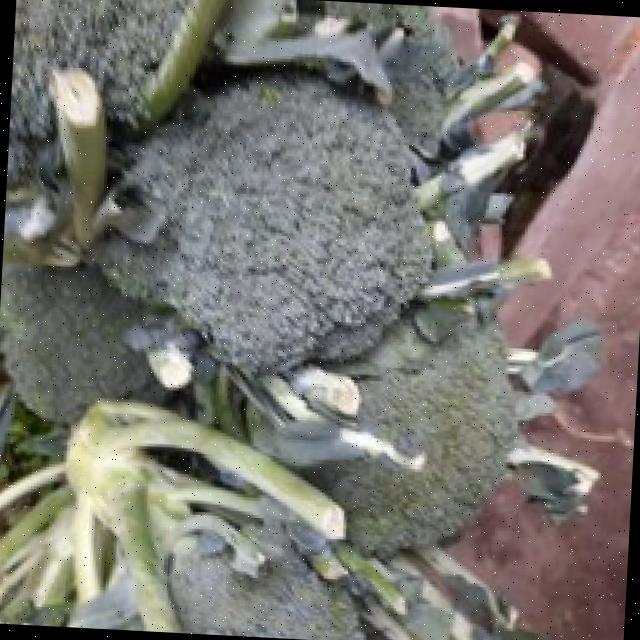Broccoli: (94, 79, 430, 371), (97, 78, 431, 371), (304, 324, 514, 551), (314, 327, 514, 549), (0, 268, 167, 421), (0, 270, 167, 421)
